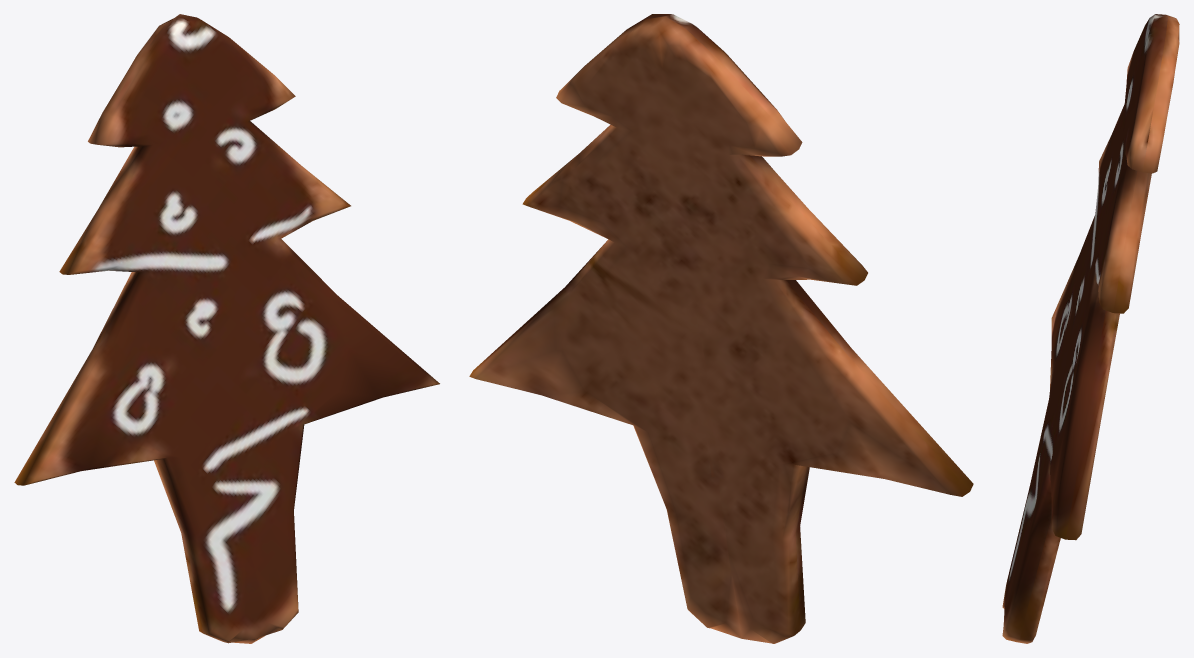
3 renders of one model, left to right at view 1: azimuth 30°, elevation 25°; view 2: azimuth 150°, elevation 25°; view 3: azimuth 270°, elevation 25°, orthographic. The views are drawn at different scales.
Parts seen in each view (by area): view 1: Plane_Xma Cookie 23_Material_0; view 2: Plane_Xma Cookie 23_Material_0; view 3: Plane_Xma Cookie 23_Material_0.
Part boxes in pixels (x1=…): Plane_Xma Cookie 23_Material_0: x1=14, y1=14, x2=439, y2=643; Plane_Xma Cookie 23_Material_0: x1=469, y1=14, x2=973, y2=643; Plane_Xma Cookie 23_Material_0: x1=1002, y1=14, x2=1179, y2=643.
Size of the model in its own units: 1.19 by 1.57 by 0.405.
Materials: 1 (1 with a texture image).
